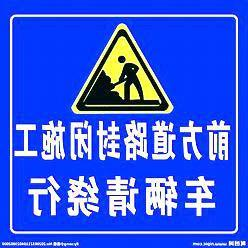sign: (7, 9, 240, 237)
